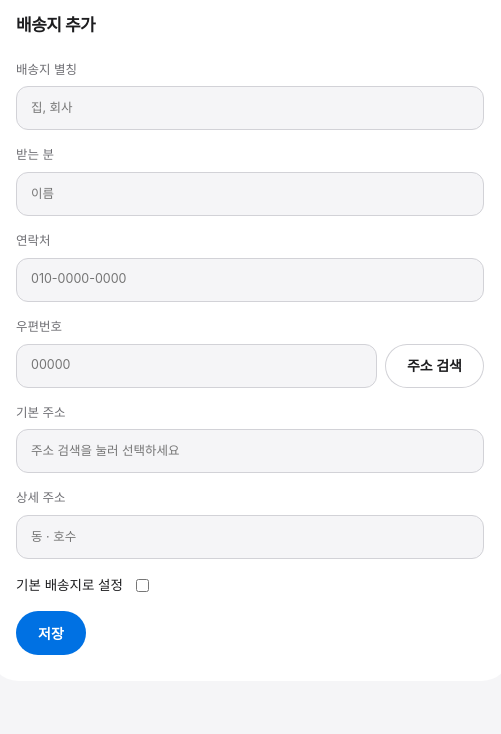
it: AddressForm › blocks the save and shows an error when no address was selected
Type "집" into the field labelled "배송지 별칭" at (250, 108), box [16, 86, 484, 130]
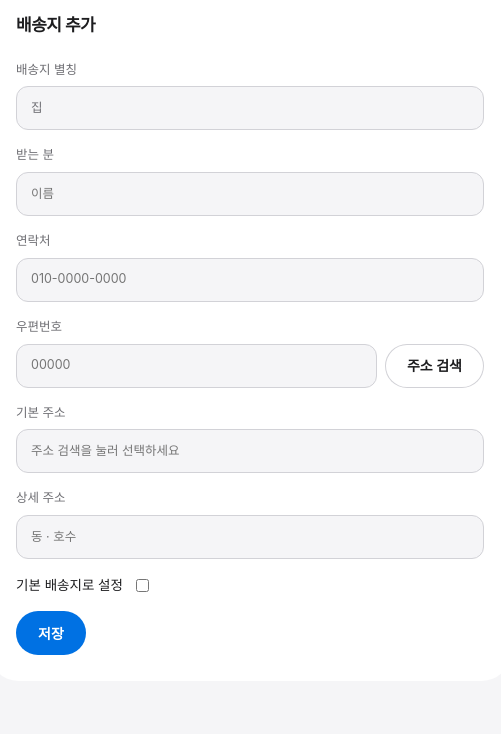
Type "김철수" into the field labelled "받는 분" at (250, 194), box [16, 172, 484, 216]
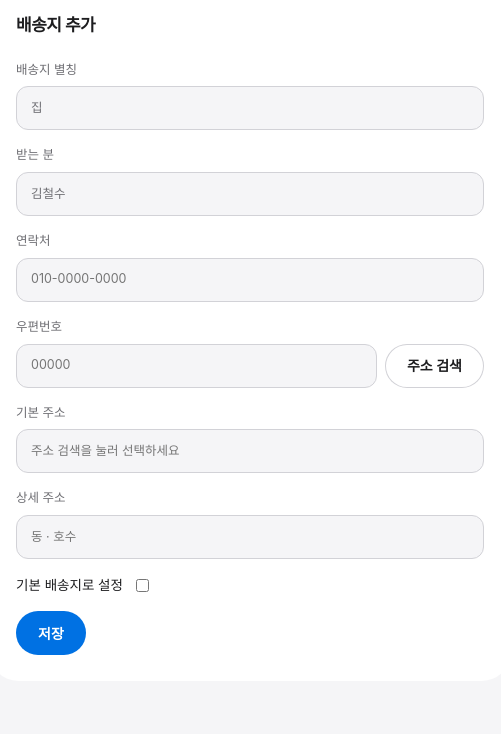
Type "010-1234-5678" into the field labelled "연락처" at (250, 280), box [16, 258, 484, 302]
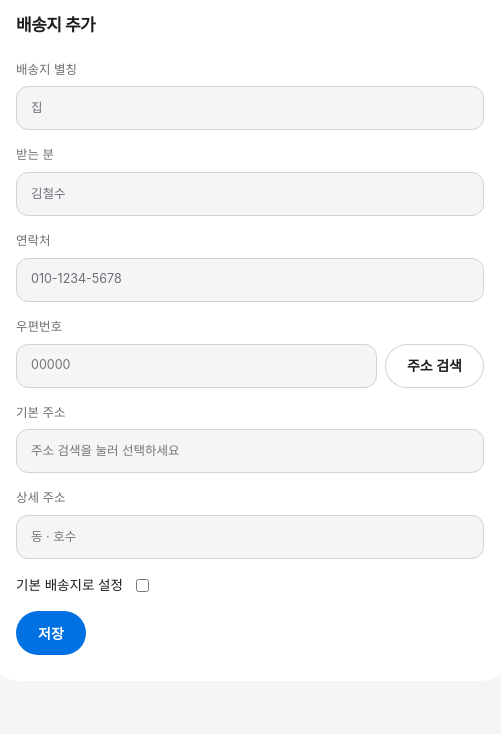
Click the button "저장" at (51, 633), box [16, 611, 86, 655]
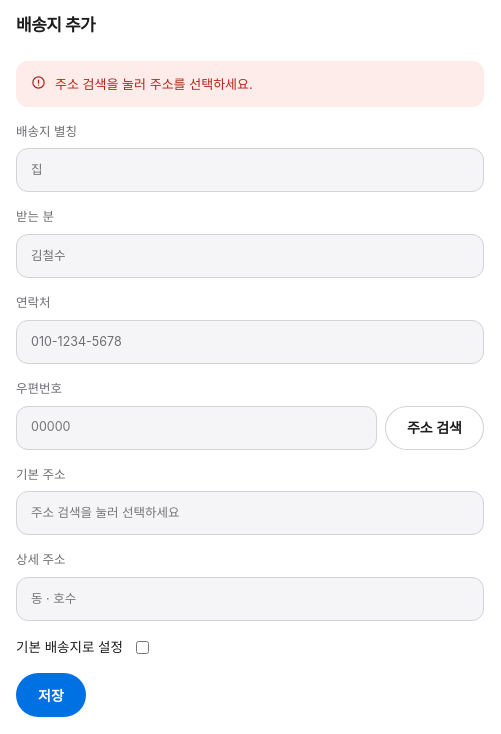
Expected: the message reads "주소 검색을 눌러 주소를 선택하세요.", [55, 76, 253, 92]
